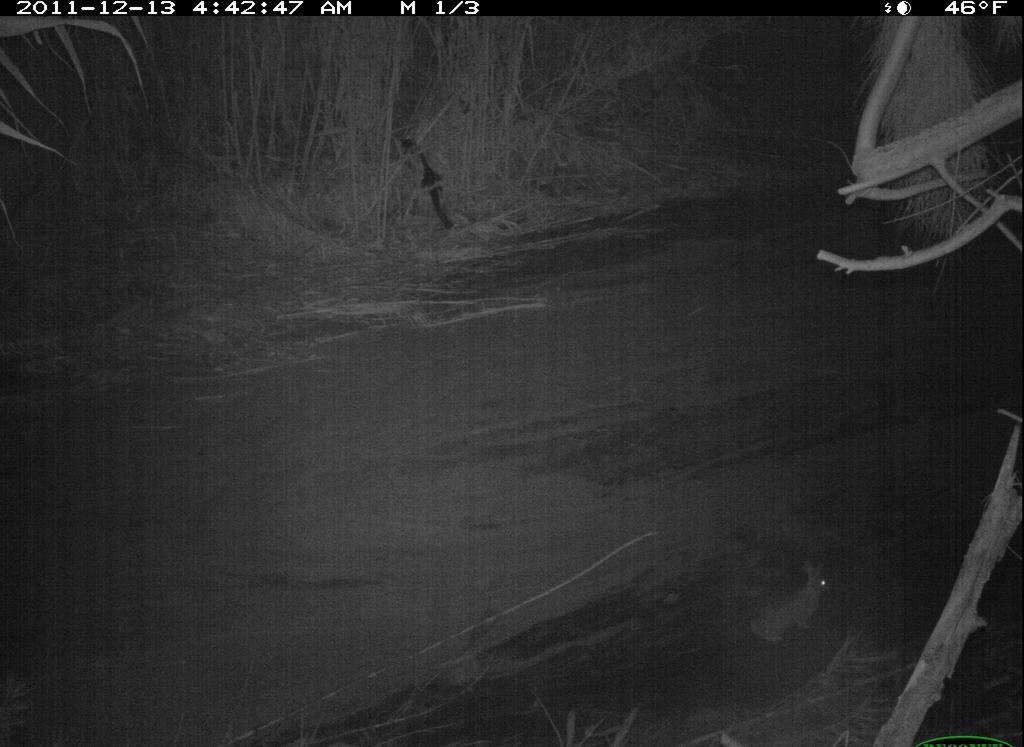rabbit: (738, 556, 863, 661)
